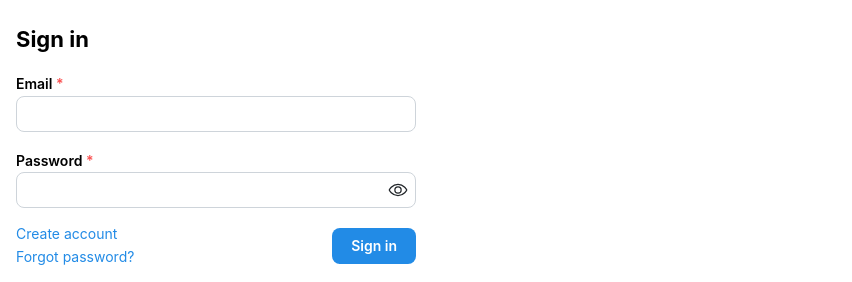
shows an error notification when login fails
In the field labelled "Email *": (216, 114) [16, 96, 416, 132], type "user@example.com"
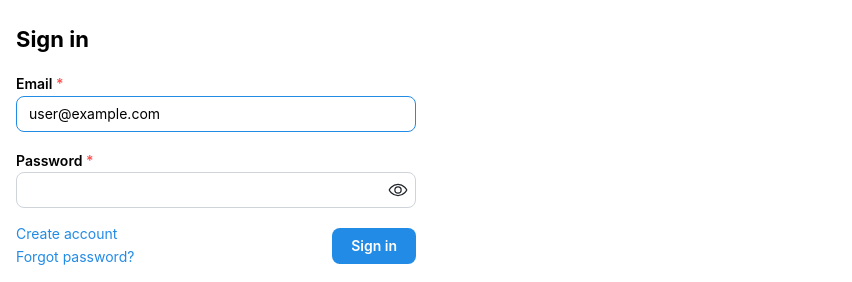
# Required fields render their label as "Password *", hence the anchored regex.
In the password field labelled "Password *": (216, 190) [17, 173, 415, 207], type "wrong"
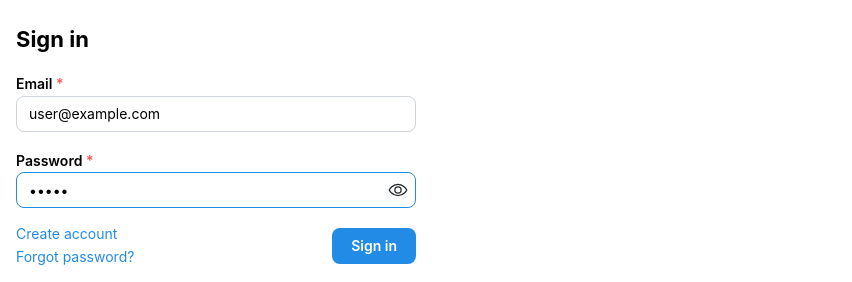
Click the button "Sign in": (374, 246) [332, 228, 416, 264]
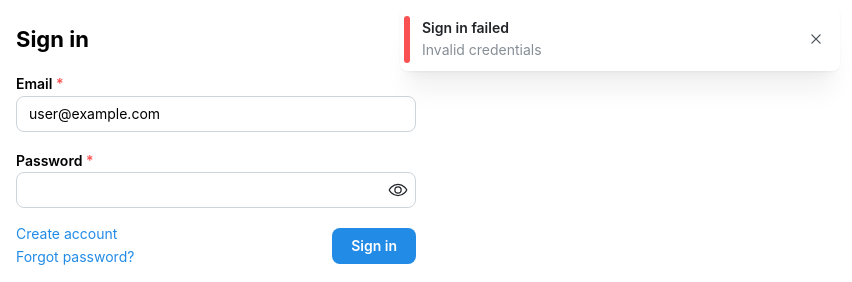
Now the text "Invalid credentials" is shown, box [422, 41, 542, 58]
